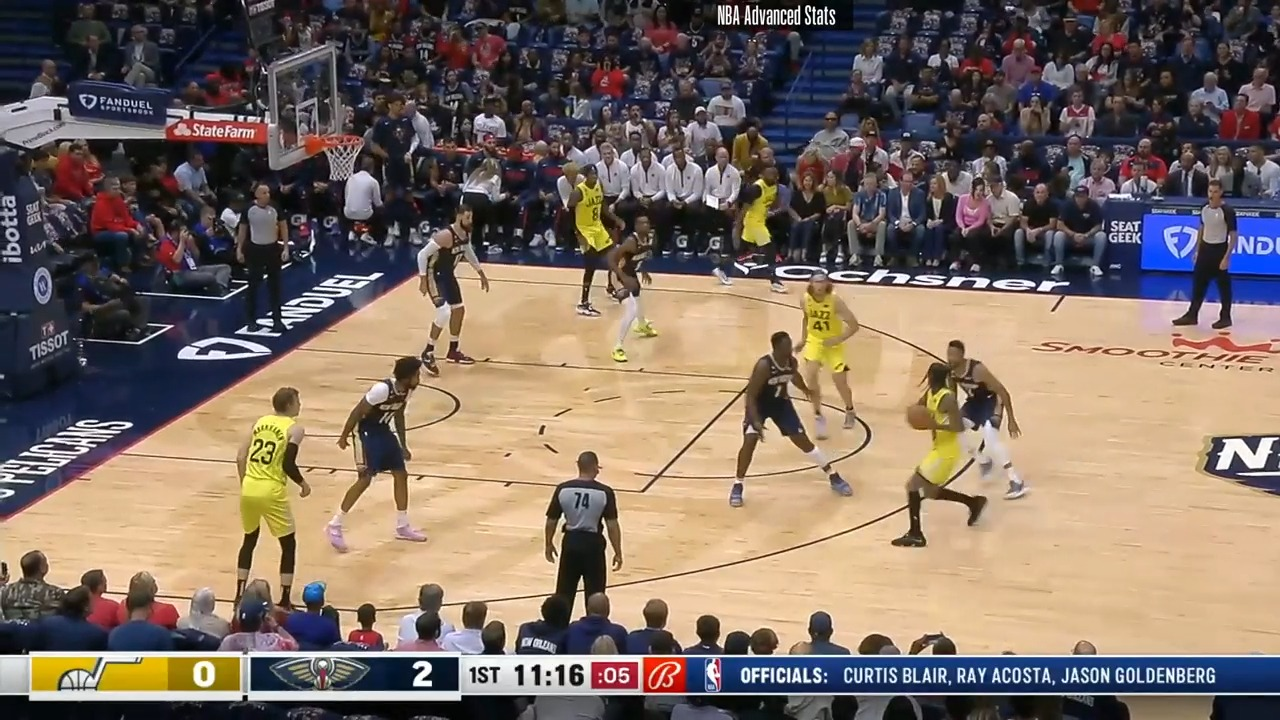net: (304, 129, 369, 185)
player: (724, 327, 847, 506), (335, 358, 434, 552), (897, 361, 992, 553), (232, 383, 315, 602), (938, 339, 1030, 505), (416, 209, 487, 377), (796, 271, 865, 435), (713, 161, 784, 292), (565, 165, 624, 320), (601, 214, 659, 365)
referee: (544, 450, 626, 620), (1172, 179, 1233, 336), (240, 184, 298, 340)
